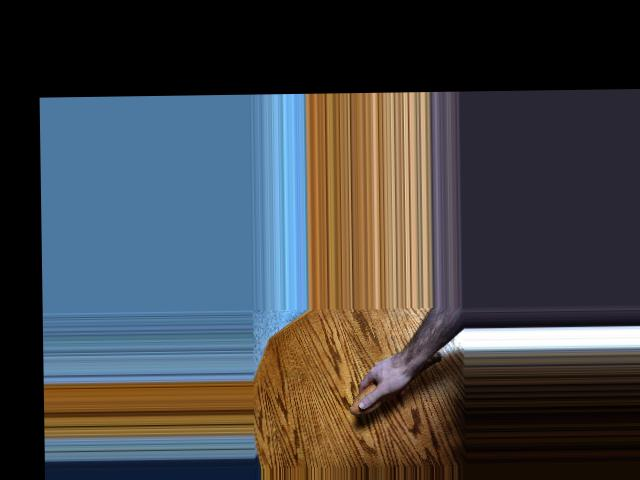sweet_potato: (347, 347, 445, 415)
